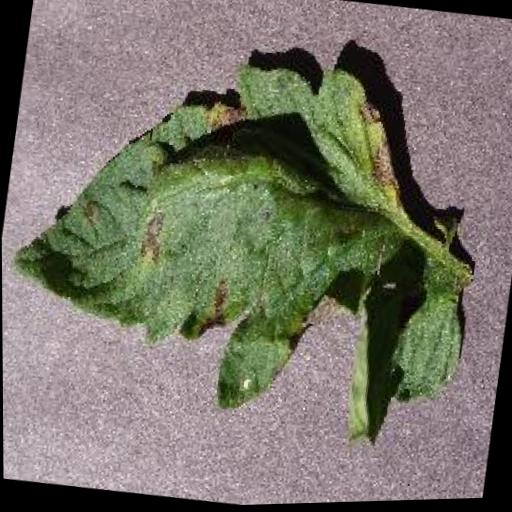Early Blight: (0, 27, 502, 462)
